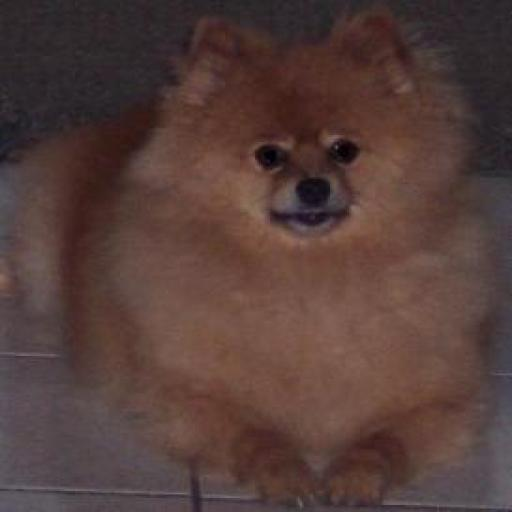dog_face: (188, 16, 420, 235)
